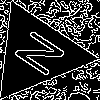N: (12, 28, 75, 85)
